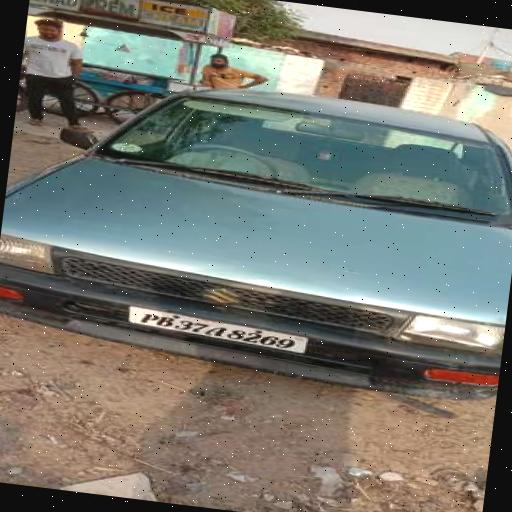license_plate`: (124, 304, 306, 354)
